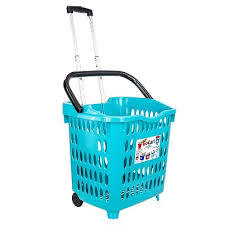with_basket: (61, 5, 175, 220)
